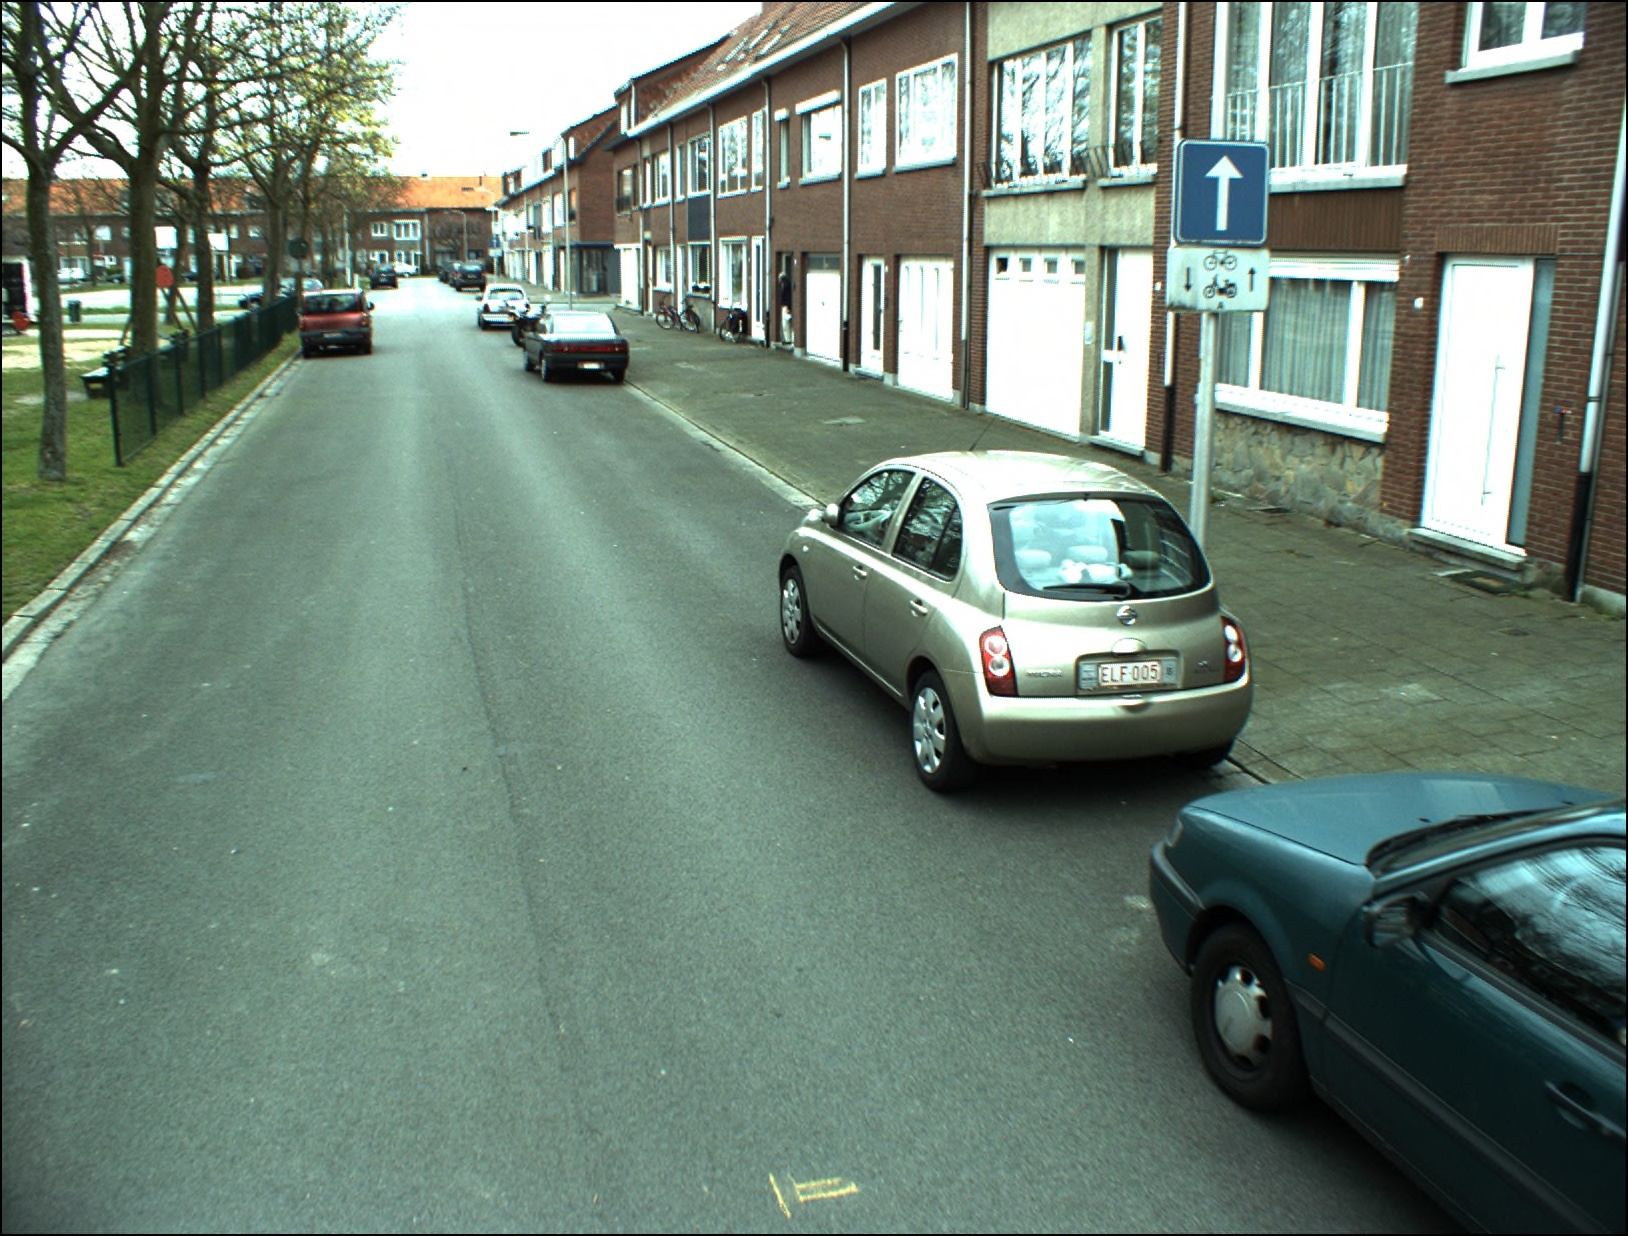oneway: (1176, 139, 1268, 247)
